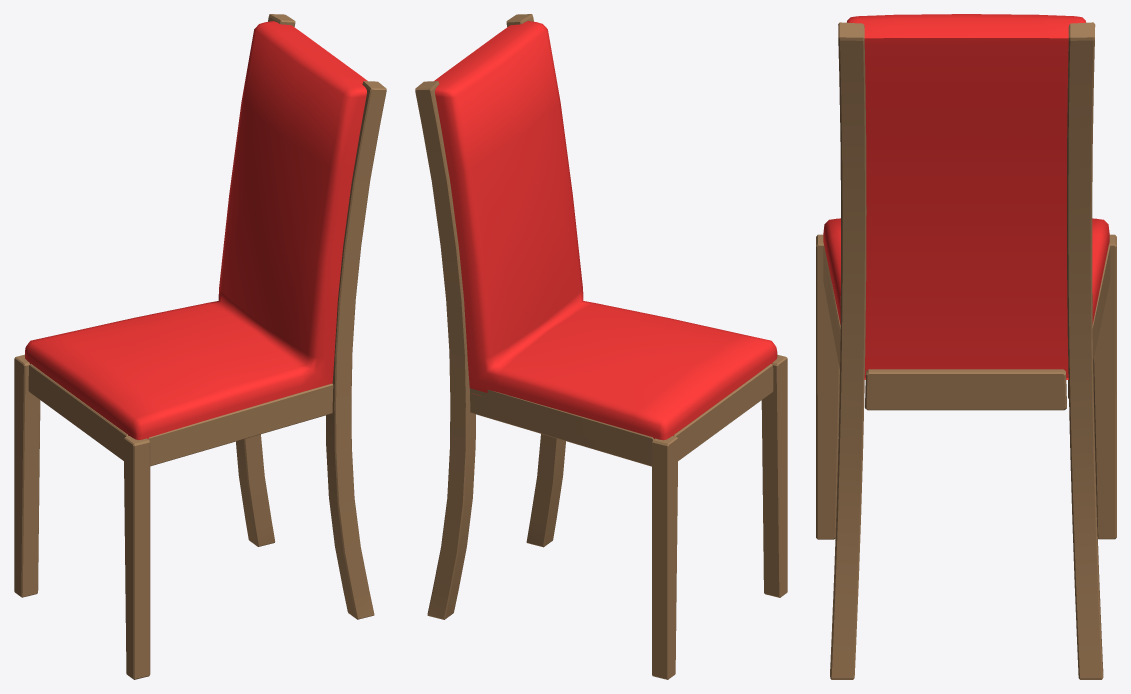
The model's file is kitchen_chair_1.FBX.
3 renders of one model, left to right at view 1: azimuth 30°, elevation 25°; view 2: azimuth 150°, elevation 25°; view 3: azimuth 270°, elevation 25°, orthographic. The views are drawn at different scales.
Parts seen in each view (by area): view 1: kitchen_chair_1; view 2: kitchen_chair_1; view 3: kitchen_chair_1.
Boxes of the visible parts, bbox=[...] form: kitchen_chair_1: bbox=[14, 14, 386, 679]; kitchen_chair_1: bbox=[415, 14, 787, 679]; kitchen_chair_1: bbox=[816, 14, 1116, 679].
Size of the model in its own units: 0.5281 by 1.01 by 0.418.
